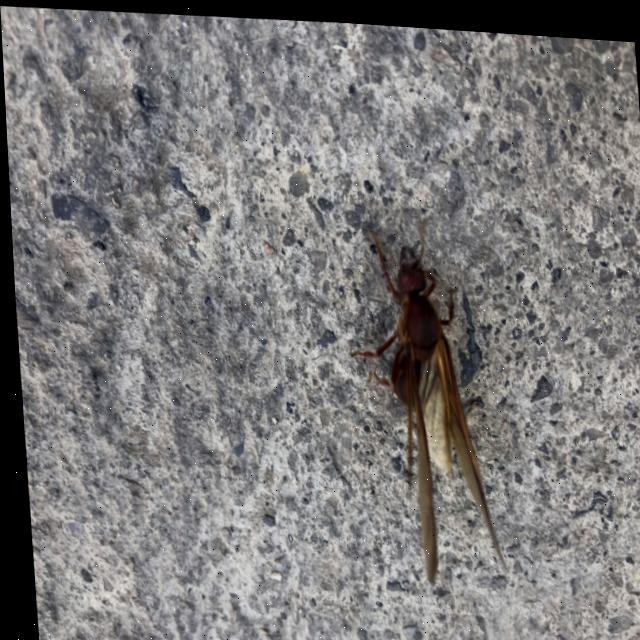Alive-Female-Alate: (337, 221, 502, 584)
